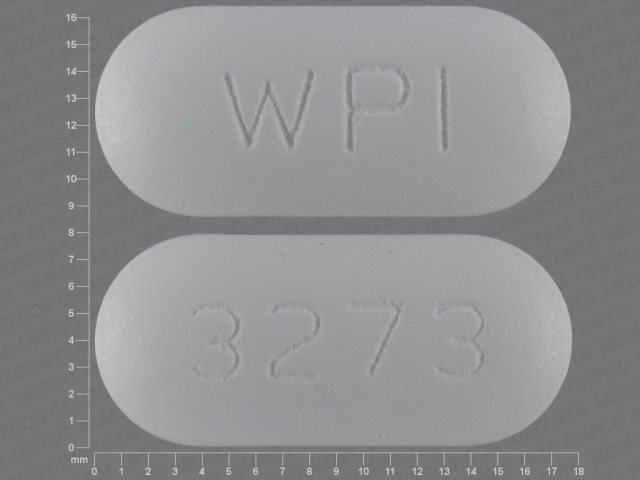2: (264, 301, 327, 388)
3: (187, 298, 244, 392), (433, 301, 485, 384)
7: (349, 298, 405, 379)
I: (435, 64, 457, 155)
P: (342, 62, 416, 156)
W: (219, 65, 322, 159)
